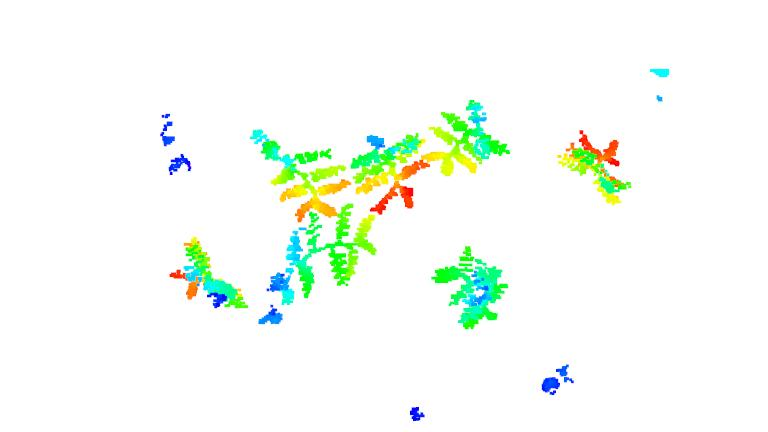chickpea: (256, 204, 380, 326), (251, 129, 350, 220), (420, 97, 512, 178), (349, 131, 433, 216), (434, 247, 509, 330), (170, 237, 249, 312), (558, 129, 632, 206)
